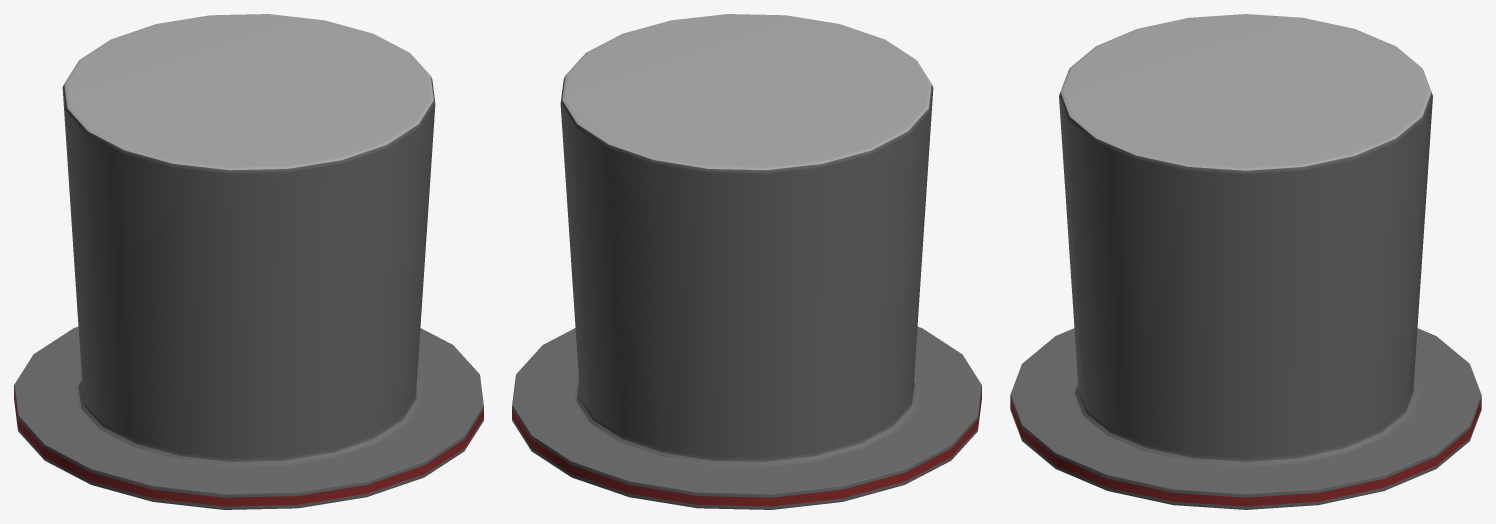
The model's file is Tophat 1.fbx.
3 renders of one model, left to right at view 1: azimuth 30°, elevation 25°; view 2: azimuth 150°, elevation 25°; view 3: azimuth 270°, elevation 25°, orthographic.
Parts seen in each view (by area): view 1: pCylinder1; view 2: pCylinder1; view 3: pCylinder1.
Part boxes in pixels (x1,y1,x2,y2): pCylinder1: (14, 14, 483, 509); pCylinder1: (512, 14, 981, 509); pCylinder1: (1010, 14, 1481, 509).
Bounding box in the file's own units: 88.65 × 66.39 × 88.65.
